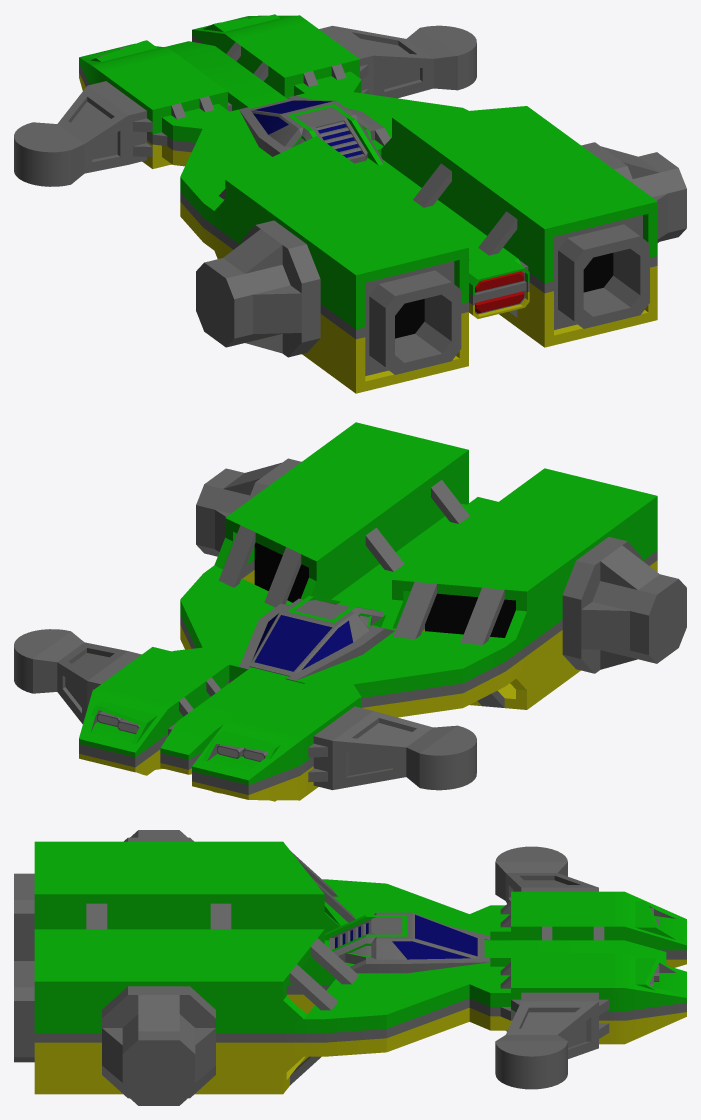
File: VenomBody.obj
The picture shows the model from 3 angles, top to bottom: view 1: azimuth 30°, elevation 25°; view 2: azimuth 150°, elevation 25°; view 3: azimuth 270°, elevation 25°; orthographic projection. The views are drawn at different scales.
Visible parts, largest first — view 1: Venom; view 2: Venom; view 3: Venom.
Boxes of the visible parts, x1,y1,x2,y2 form: Venom: (14, 14, 686, 393); Venom: (14, 422, 686, 801); Venom: (14, 830, 686, 1105).
Bounding box in the file's own units: 7.3 × 1.83 × 9.89.
